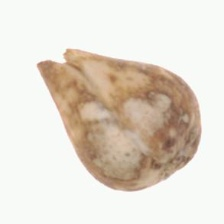L1: (140, 148, 198, 191), (36, 47, 79, 69)
L2: (36, 47, 201, 192)
